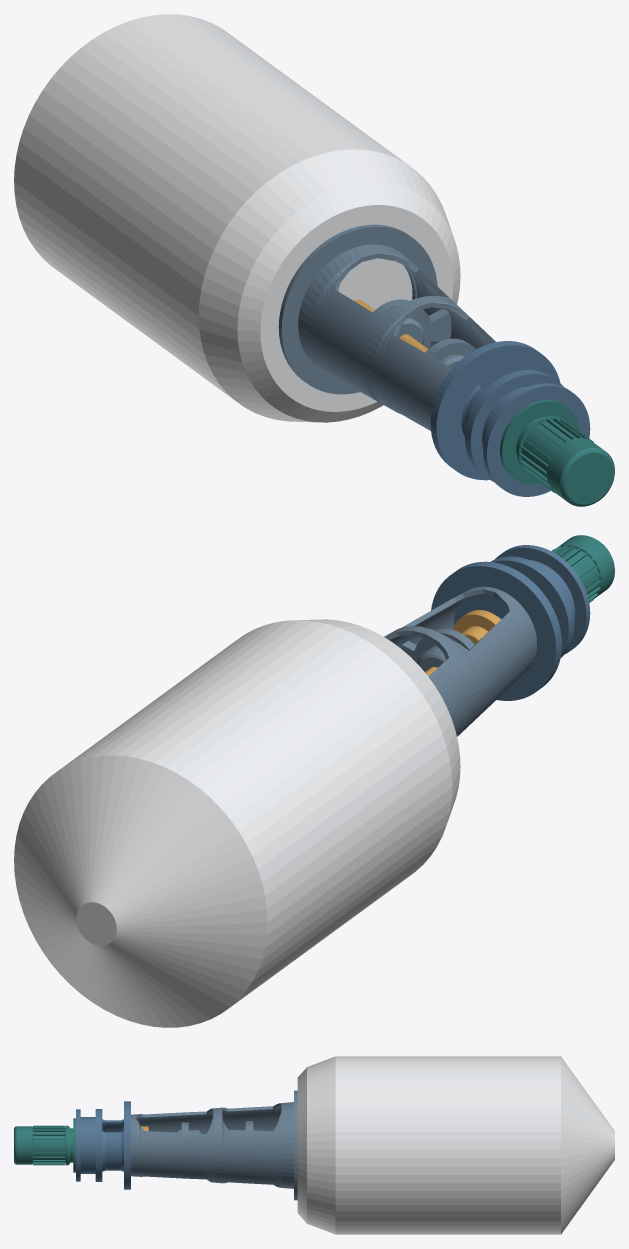
3 renders of one model, top to bottom at view 1: azimuth 30°, elevation 25°; view 2: azimuth 150°, elevation 25°; view 3: azimuth 270°, elevation 25°, orthographic. The views are drawn at different scales.
Visible parts, largest first — view 1: Equipment, 06_Tapered_window_frame_with_bored_seats, 01_Motor, 06_Frame_foot, 02_Base_flange_top, 02_Upper_mount_flange, 02_Middle_flange_top, 02_Base_flange_bottom; view 2: Equipment, 06_Tapered_window_frame_with_bored_seats, 02_Base_flange_bottom, 02_Upper_mount_flange, 01_Motor, 02_Middle_flange_bottom, 03_Intermediate_shaft; view 3: Equipment, 06_Tapered_window_frame_with_bored_seats, 01_Motor, 02_Upper_housing, 02_Lower_housing_1, 06_Frame_foot, 02_Upper_mount_flange, 02_Base_flange_top, 02_Base_flange_bottom, 02_Middle_flange_top, 02_Middle_flange_bottom, 02_Lower_housing_2.
Boxes of the visible parts, bbox=[...] form: Equipment: bbox=[14, 14, 460, 422]; 06_Tapered_window_frame_with_bored_seats: bbox=[298, 244, 495, 430]; 01_Motor: bbox=[500, 400, 614, 506]; 06_Frame_foot: bbox=[278, 224, 437, 394]; 02_Base_flange_top: bbox=[433, 343, 560, 480]; 02_Upper_mount_flange: bbox=[483, 383, 590, 496]; 02_Middle_flange_top: bbox=[467, 372, 563, 481]; 02_Base_flange_bottom: bbox=[430, 341, 535, 466]; Equipment: bbox=[14, 619, 460, 1027]; 06_Tapered_window_frame_with_bored_seats: bbox=[384, 586, 536, 736]; 02_Base_flange_bottom: bbox=[431, 564, 558, 700]; 02_Upper_mount_flange: bbox=[495, 545, 590, 654]; 01_Motor: bbox=[558, 535, 614, 599]; 02_Middle_flange_bottom: bbox=[491, 558, 571, 656]; 03_Intermediate_shaft: bbox=[425, 610, 500, 676]; Equipment: bbox=[297, 1056, 614, 1234]; 06_Tapered_window_frame_with_bored_seats: bbox=[131, 1102, 293, 1188]; 01_Motor: bbox=[14, 1118, 75, 1172]; 02_Upper_housing: bbox=[80, 1117, 95, 1173]; 02_Lower_housing_1: bbox=[102, 1131, 123, 1171]; 06_Frame_foot: bbox=[294, 1090, 297, 1200]; 02_Upper_mount_flange: bbox=[76, 1109, 80, 1181]; 02_Base_flange_top: bbox=[124, 1101, 127, 1189]; 02_Base_flange_bottom: bbox=[127, 1101, 130, 1189]; 02_Middle_flange_top: bbox=[95, 1109, 98, 1181]; 02_Middle_flange_bottom: bbox=[99, 1109, 102, 1181]; 02_Lower_housing_2: bbox=[102, 1119, 123, 1132].
Bounding box in the file's own units: 0.9 × 0.9 × 3.03.
